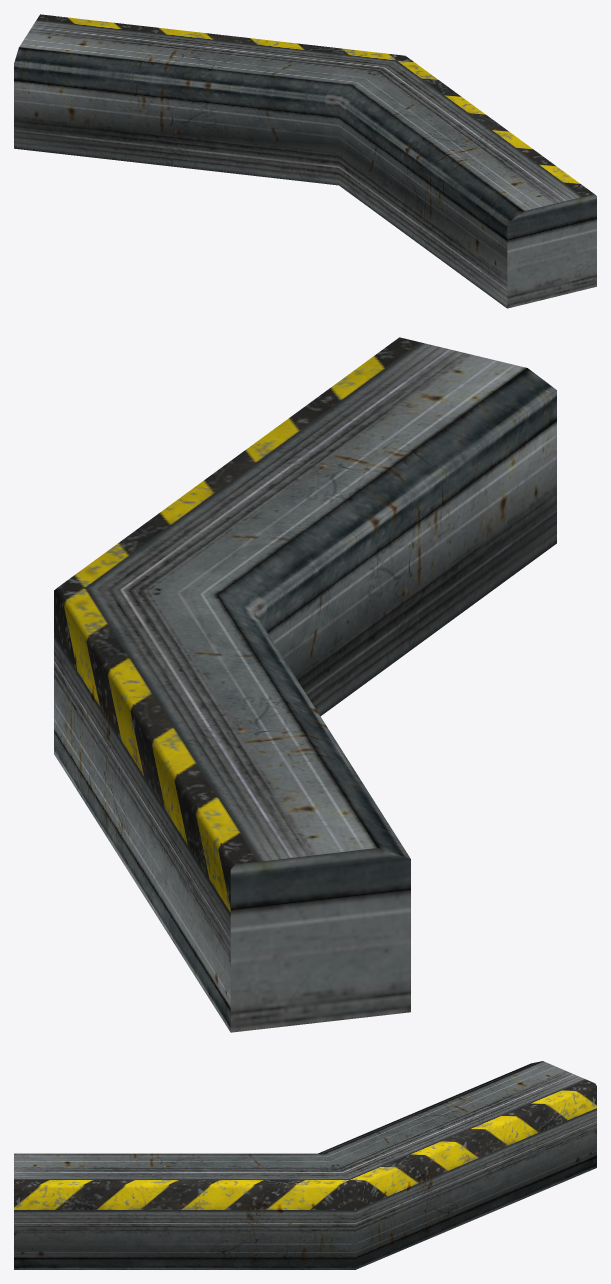
File: Edges_13.fbx
The picture shows the model from 3 angles, top to bottom: view 1: azimuth 30°, elevation 25°; view 2: azimuth 150°, elevation 25°; view 3: azimuth 270°, elevation 25°; orthographic projection. The views are drawn at different scales.
Parts seen in each view (by area): view 1: Edges_13; view 2: Edges_13; view 3: Edges_13.
Part boxes in pixels (x1,y1,x2,y2): Edges_13: (14, 14, 596, 308); Edges_13: (54, 337, 556, 1032); Edges_13: (14, 1061, 596, 1269).
Size of the model in its own units: 91.02 by 27.46 by 173.
1 material, 1 textured.
